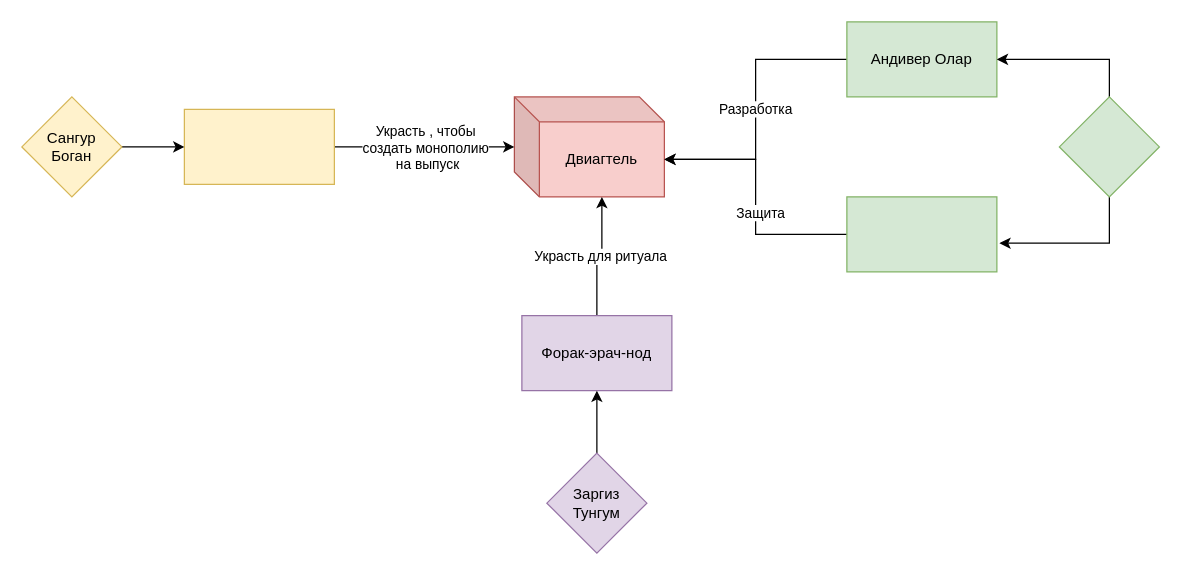
Image size: 1181x575. Some labels were removed from this diagram. Here are the shapes that lost their labels. From the top down, the box of each, then its label:
(183, 108, 334, 184): Каззик'с
(1058, 96, 1159, 197): Харгот Мальгар
(846, 196, 997, 272): Шипы
